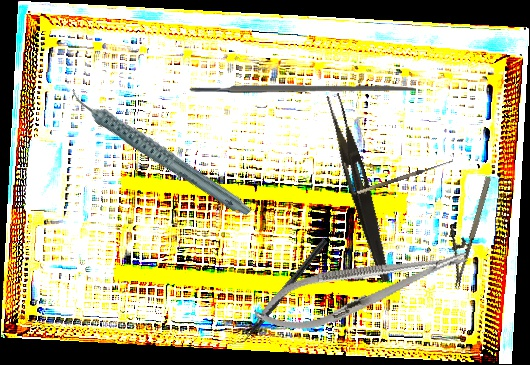Chopper: (227, 232, 329, 354)
Dressing Forceps: (319, 92, 400, 284)
Handpiece: (68, 55, 254, 247)
Hook Surgical: (355, 154, 454, 195)
Needle Holder: (248, 231, 475, 345), (432, 170, 495, 291)
Scalpel Handle: (189, 84, 416, 93)
